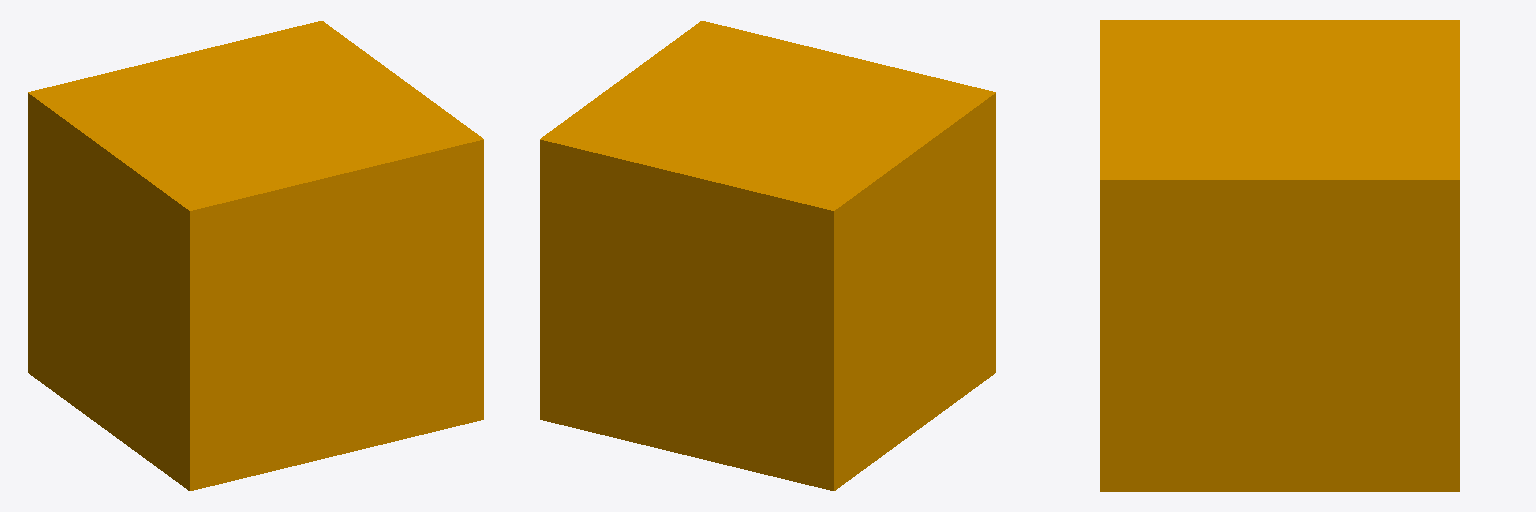
URDF robot description (object):
<robot name="object">
  <link name="object">
    <visual>
      <origin xyz="0 0 0" />
      <geometry>
        <box size="0.08800000000000002 0.08400000000000002 0.08" />
      </geometry>
    </visual>

    <collision>
      <origin xyz="0 0 0" />
      <geometry>
        <box size="0.08800000000000002 0.08400000000000002 0.08" />
      </geometry>
    </collision>

    <inertial>
      <mass value="0.05" />
      <inertia ixx="0.0001" ixy="0.0" ixz="0.0" iyy="0.0001" iyz="0.0" izz="0.0001" />
    </inertial>
  </link>
</robot>

--- Facts derived from the render (not from the file) ---
3 views of the same robot in one strip: view 1: azimuth 30°, elevation 25°; view 2: azimuth 150°, elevation 25°; view 3: azimuth 270°, elevation 25° (orthographic).
Robot: object — 1 links, 0 joints (none); root link object; default pose: every joint at zero.
Visible links, largest first — view 1: object; view 2: object; view 3: object.
Boxes of the visible links, left/top/right/bottom form: object: left=28, top=21, right=483, bottom=490; object: left=540, top=21, right=995, bottom=490; object: left=1100, top=20, right=1459, bottom=491.
Bounding box of the posed robot: 0.088 × 0.084 × 0.08 m (x, y, z).
Geometry: primitives only (box / cylinder / sphere), no mesh files.